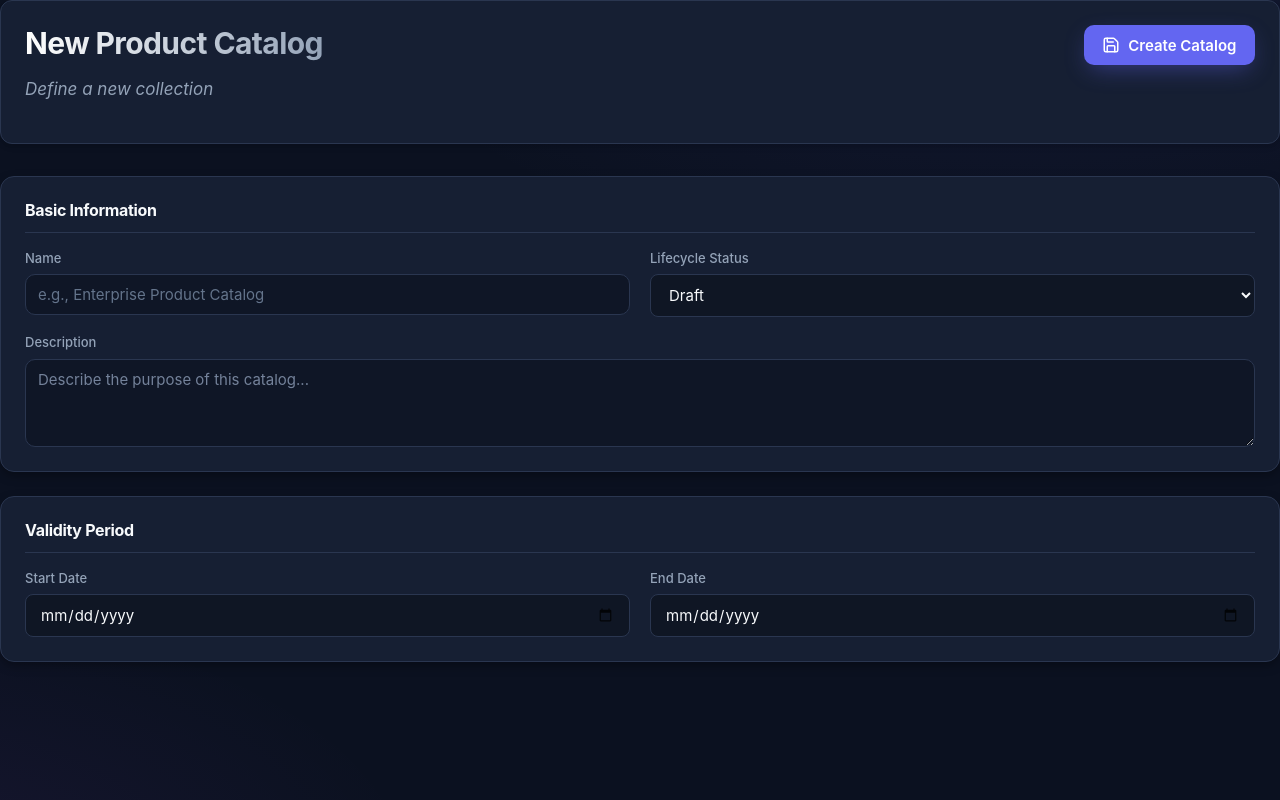
Scenario: CatalogEditForm › shows an error message from the mutation
Type "X" into the field labelled "Name" at (328, 295), box [25,274,630,315]
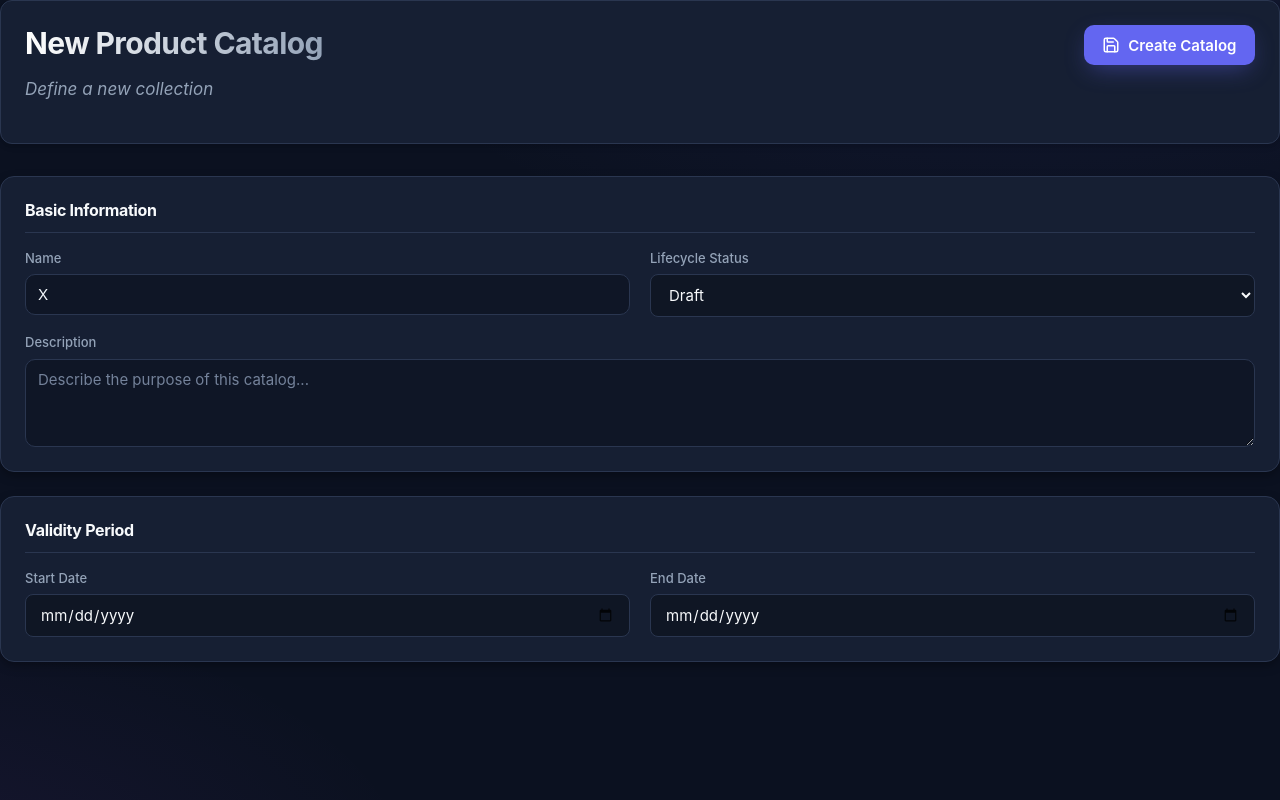
Submit the form with id "catalog-form"
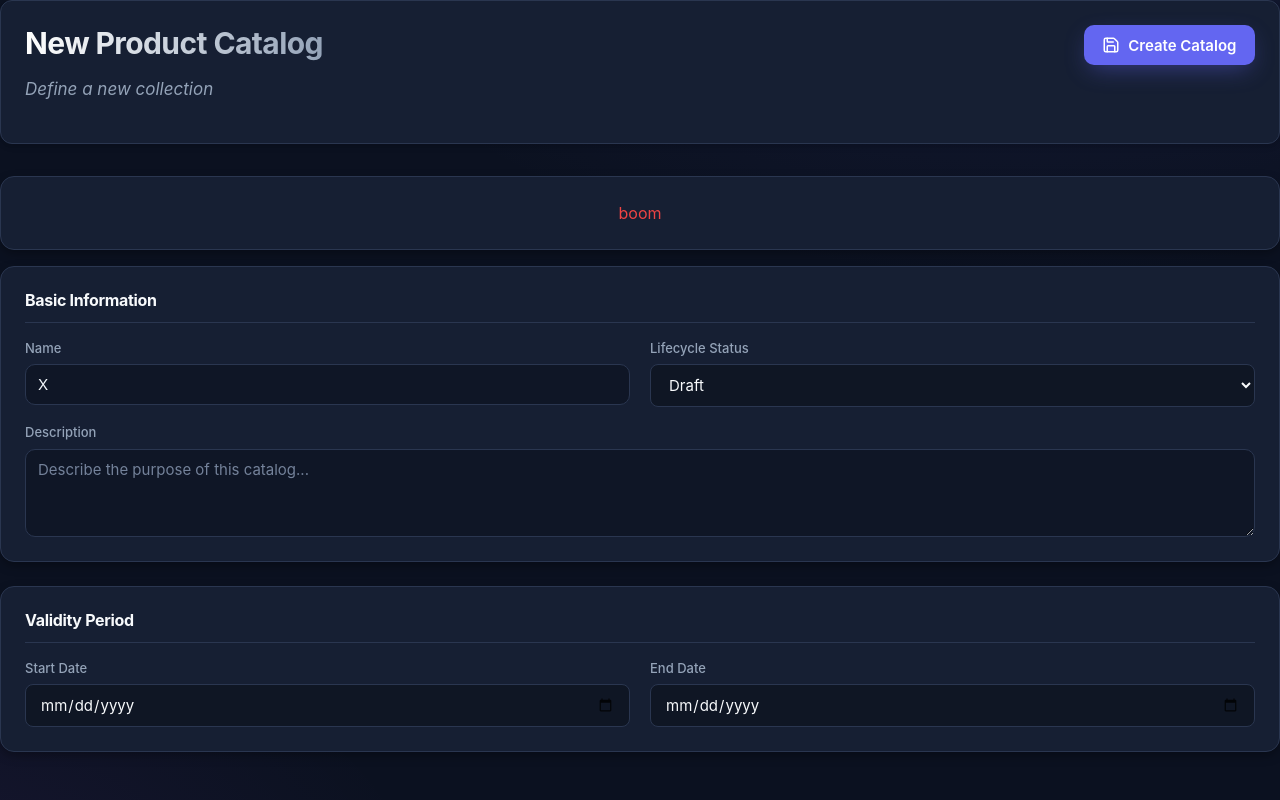
Check: the text "boom" is shown, box [618,200,662,224]
